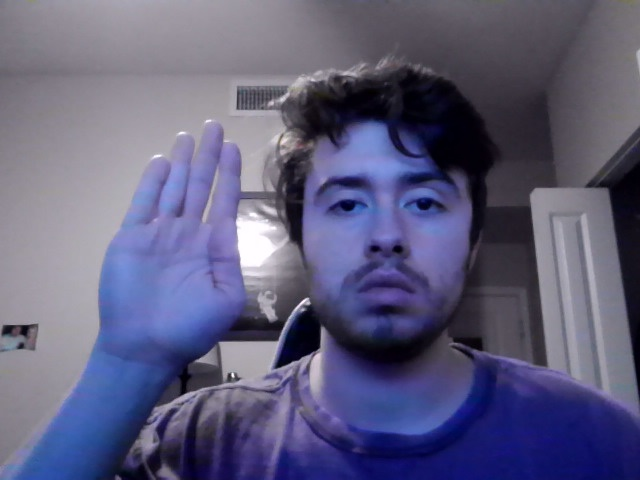b: (98, 118, 246, 373)
